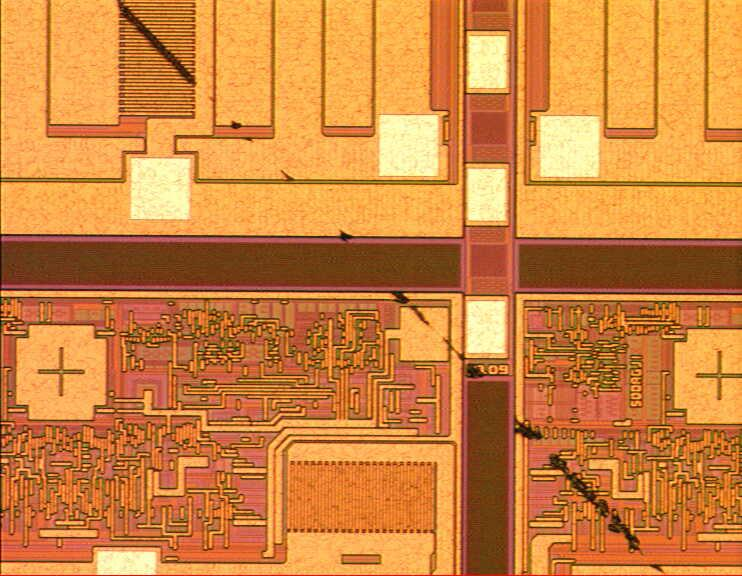SCRATCH: (108, 1, 674, 576)
